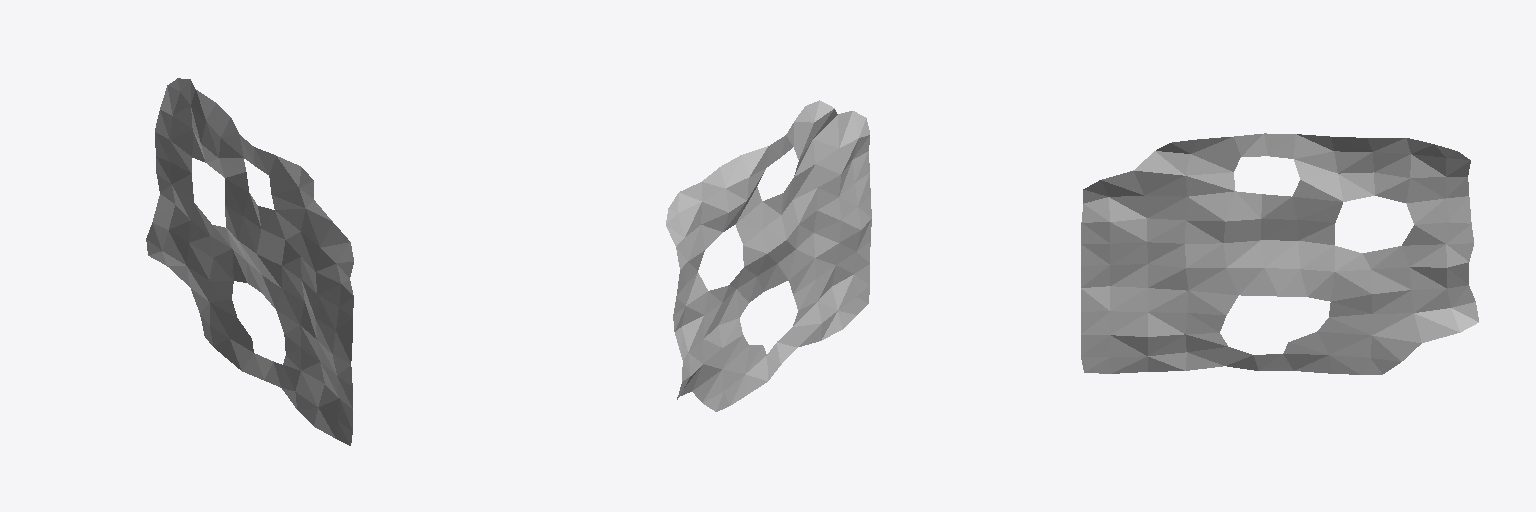
File: paper.obj
The picture shows the model from 3 angles: view 1: azimuth 30°, elevation 25°; view 2: azimuth 150°, elevation 25°; view 3: azimuth 270°, elevation 25°; orthographic projection.
Parts seen in each view (by area): view 1: Plane; view 2: Plane; view 3: Plane.
Part boxes in pixels (bbox=[...]): Plane: bbox=[146, 78, 353, 445]; Plane: bbox=[666, 100, 871, 411]; Plane: bbox=[1081, 133, 1478, 374].
Bounding box in the file's own units: 0.1982 × 1.91 × 2.88.